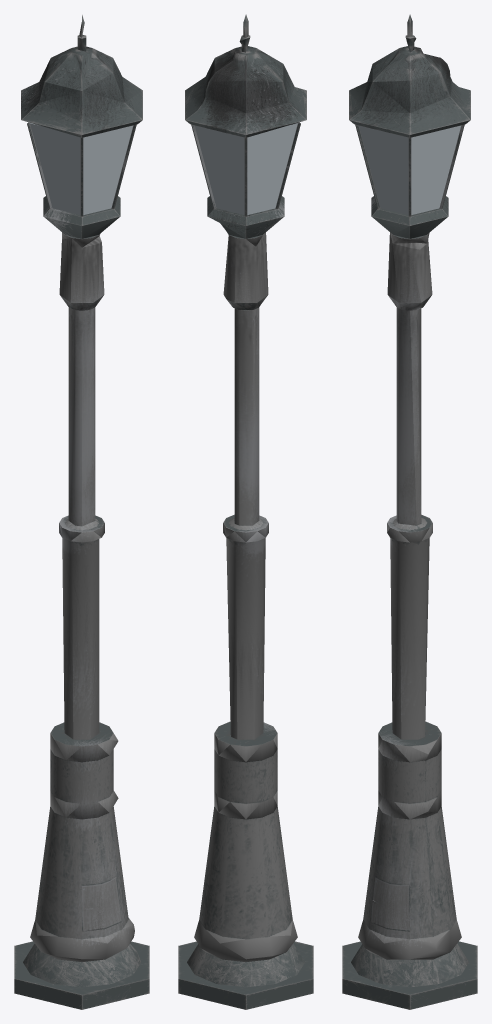
Rendered from lamp.fbx.
3 views of the same model, side by side, from view 1: azimuth 30°, elevation 25°; view 2: azimuth 150°, elevation 25°; view 3: azimuth 330°, elevation 25° (orthographic).
Parts seen in each view (by area): view 1: lamp; view 2: lamp; view 3: lamp.
Boxes of the visible parts, x1,y1,x2,y2 form: lamp: [14, 15, 149, 1009]; lamp: [178, 14, 313, 1009]; lamp: [342, 14, 477, 1009].
Size of the model in its own units: 63.27 by 431 by 54.79.
1 material, 1 textured.
